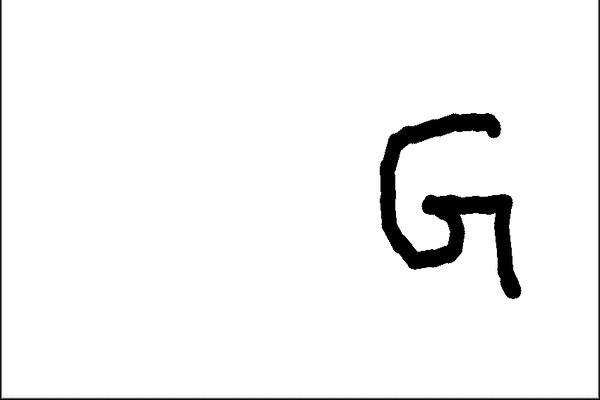G: (374, 108, 527, 304)
